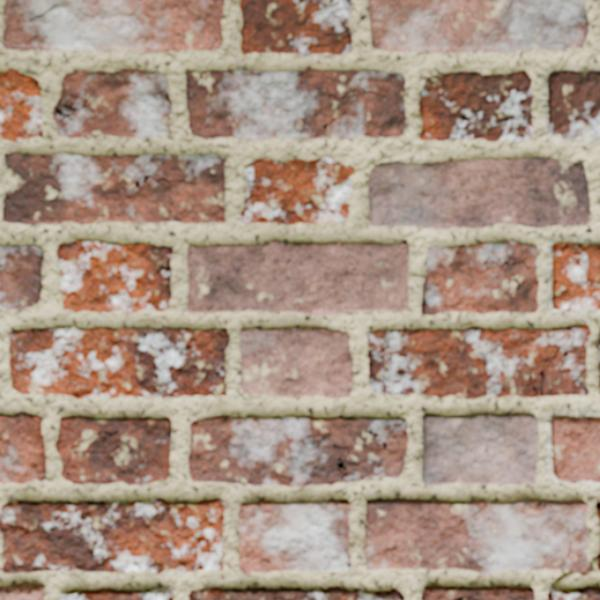brick: (0, 499, 225, 573), (366, 499, 587, 574), (368, 326, 590, 398), (188, 242, 409, 314), (3, 153, 225, 224), (189, 416, 408, 486), (187, 70, 405, 140), (369, 159, 589, 228), (9, 329, 228, 398), (369, 0, 588, 52), (4, 0, 223, 51), (423, 241, 538, 315), (57, 241, 173, 311), (239, 500, 350, 573), (420, 72, 534, 143), (424, 414, 537, 484), (240, 327, 352, 397), (54, 70, 171, 137), (56, 418, 171, 485), (241, 157, 353, 224), (241, 0, 351, 55), (548, 70, 599, 140), (0, 413, 46, 484), (552, 242, 599, 311), (0, 70, 42, 140), (0, 246, 43, 309), (189, 588, 404, 599), (423, 586, 534, 599), (59, 588, 172, 599), (0, 584, 43, 599), (550, 588, 599, 599)
broken_brick: (550, 417, 599, 484)
crack: (548, 531, 599, 598), (518, 345, 572, 398), (54, 91, 95, 122), (500, 261, 535, 268), (0, 262, 13, 275), (453, 596, 480, 599), (346, 561, 351, 568), (596, 502, 599, 510)
